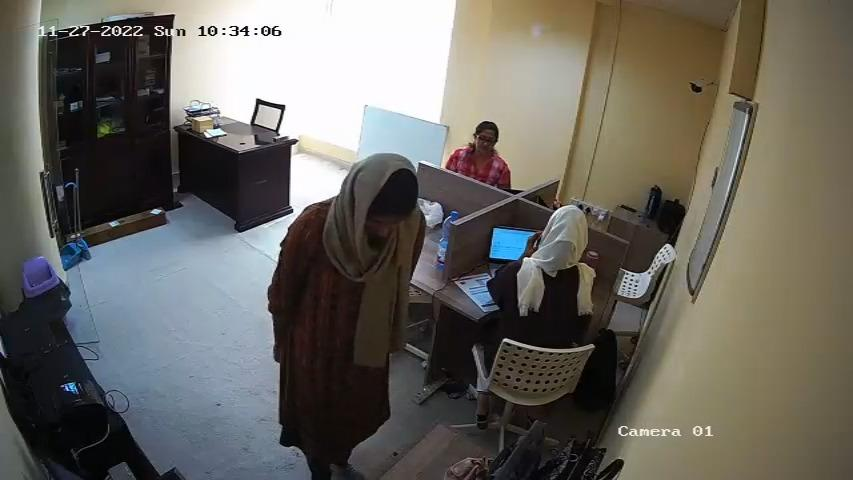no_apron: (283, 247, 393, 429)
